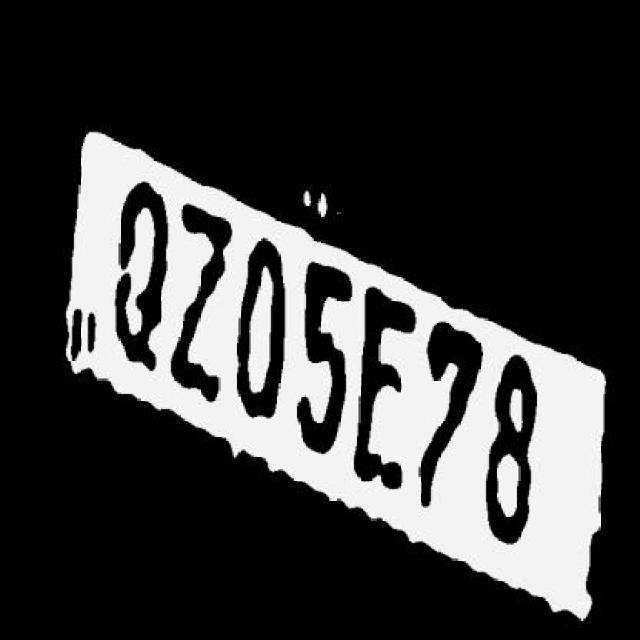5: (286, 260, 362, 466)
7: (408, 322, 496, 509)
8: (476, 348, 553, 544)
e: (349, 288, 426, 488)
o: (234, 232, 291, 426)
q: (110, 176, 170, 377)
z: (170, 199, 238, 413)
